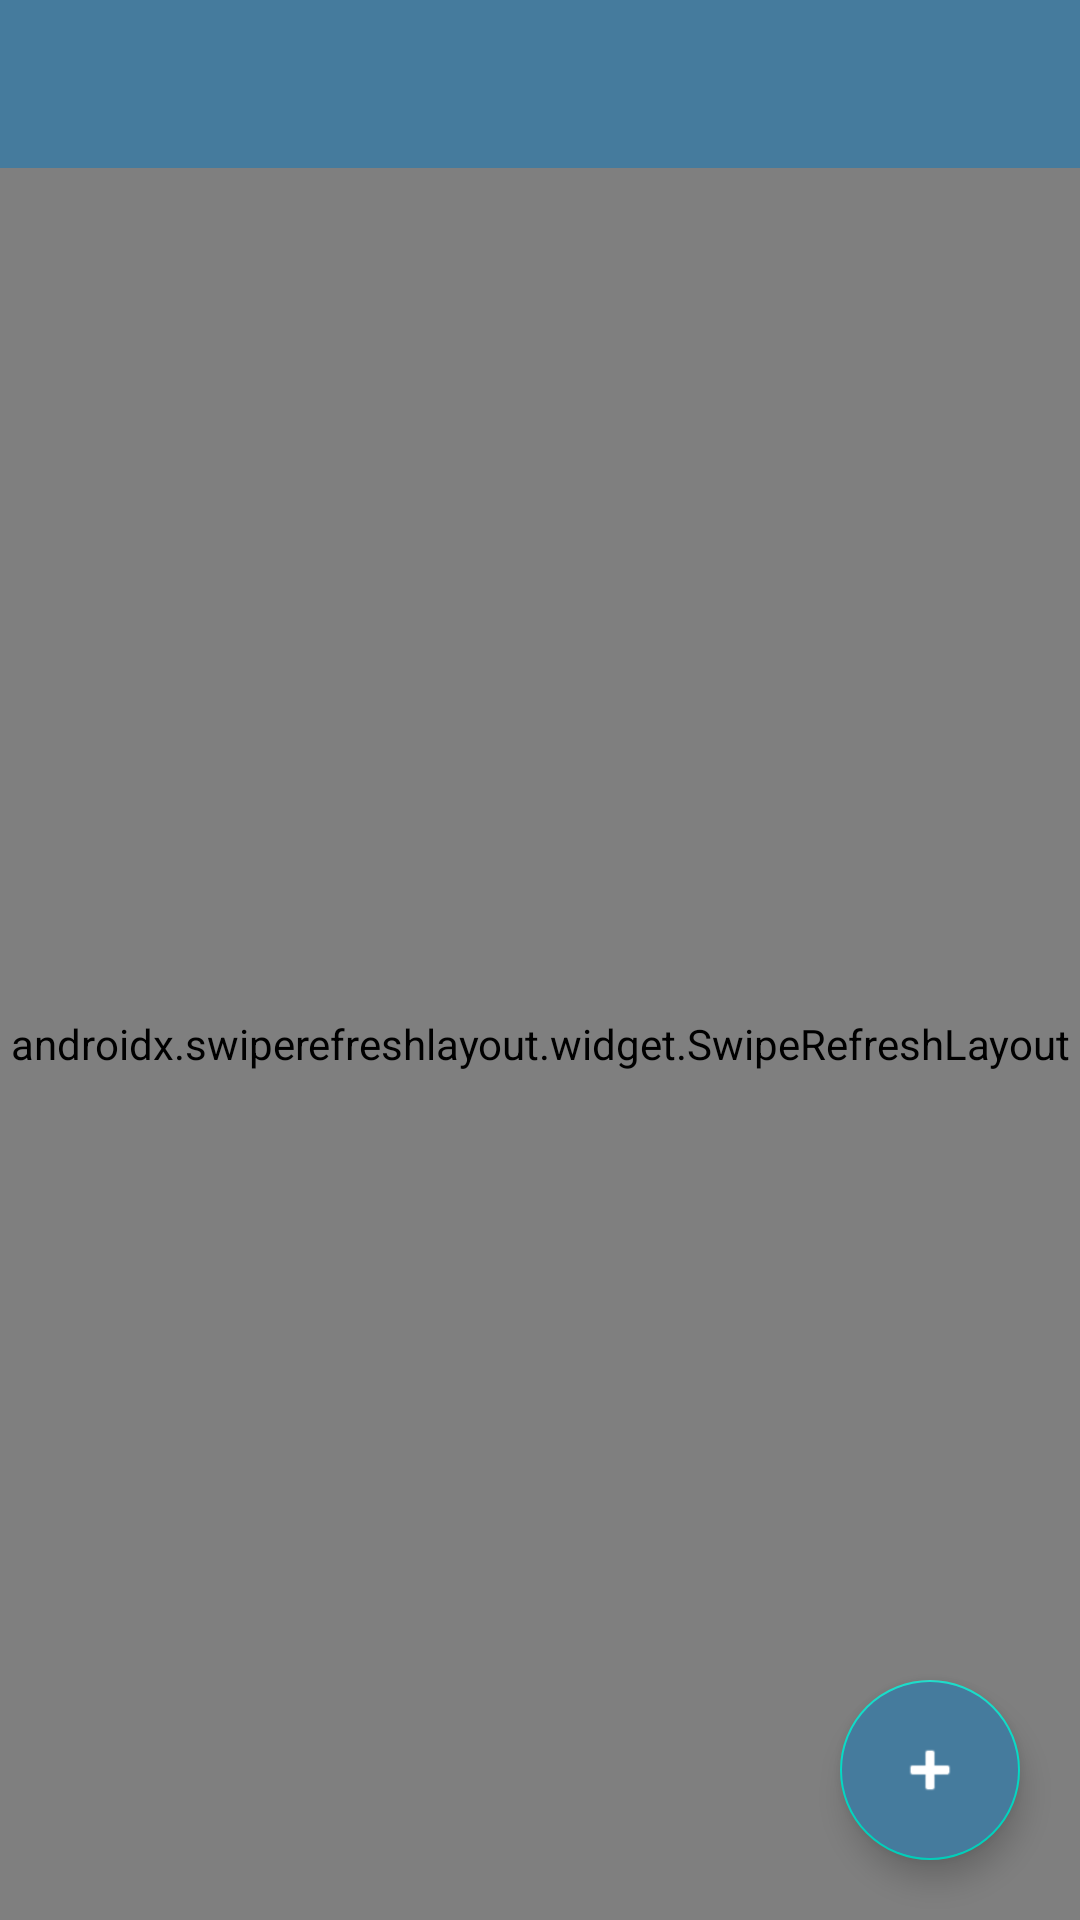

Icons on this 1080px×1920px Android screen, each with the point to tap as point (x, y):
add: point (930, 1770)
